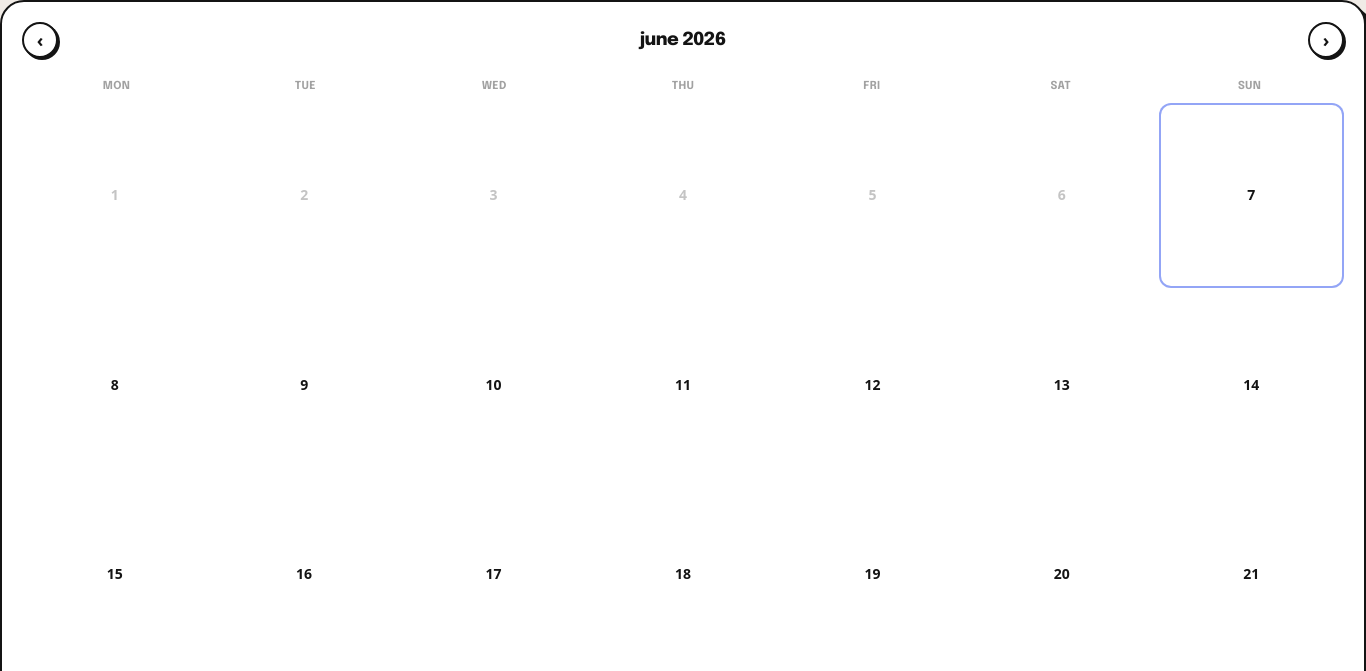
Test case: Calendar › clicking prev month button shows previous month
Expected: the text "June 2026" is shown, [640,26,726,54]
Click the button named "Previous month" at (40, 40), box [22,22,58,58]
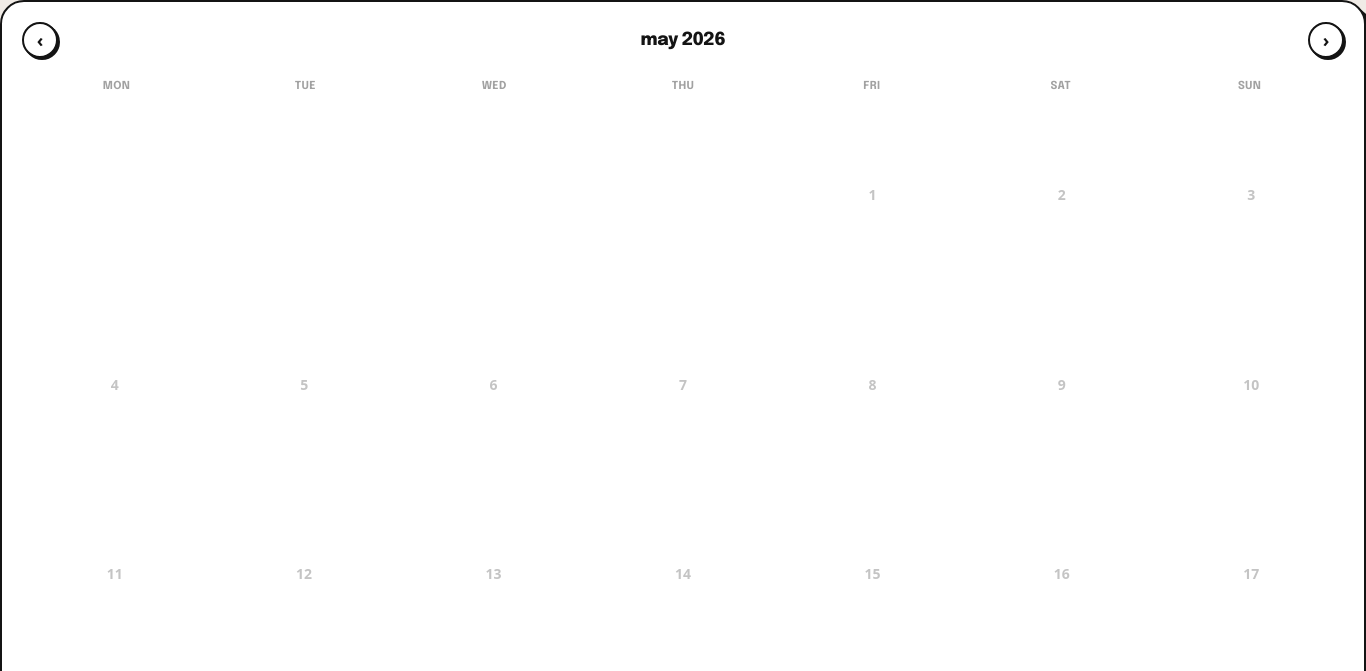
Expected: the text "May 2026" is shown, [641,26,725,54]
